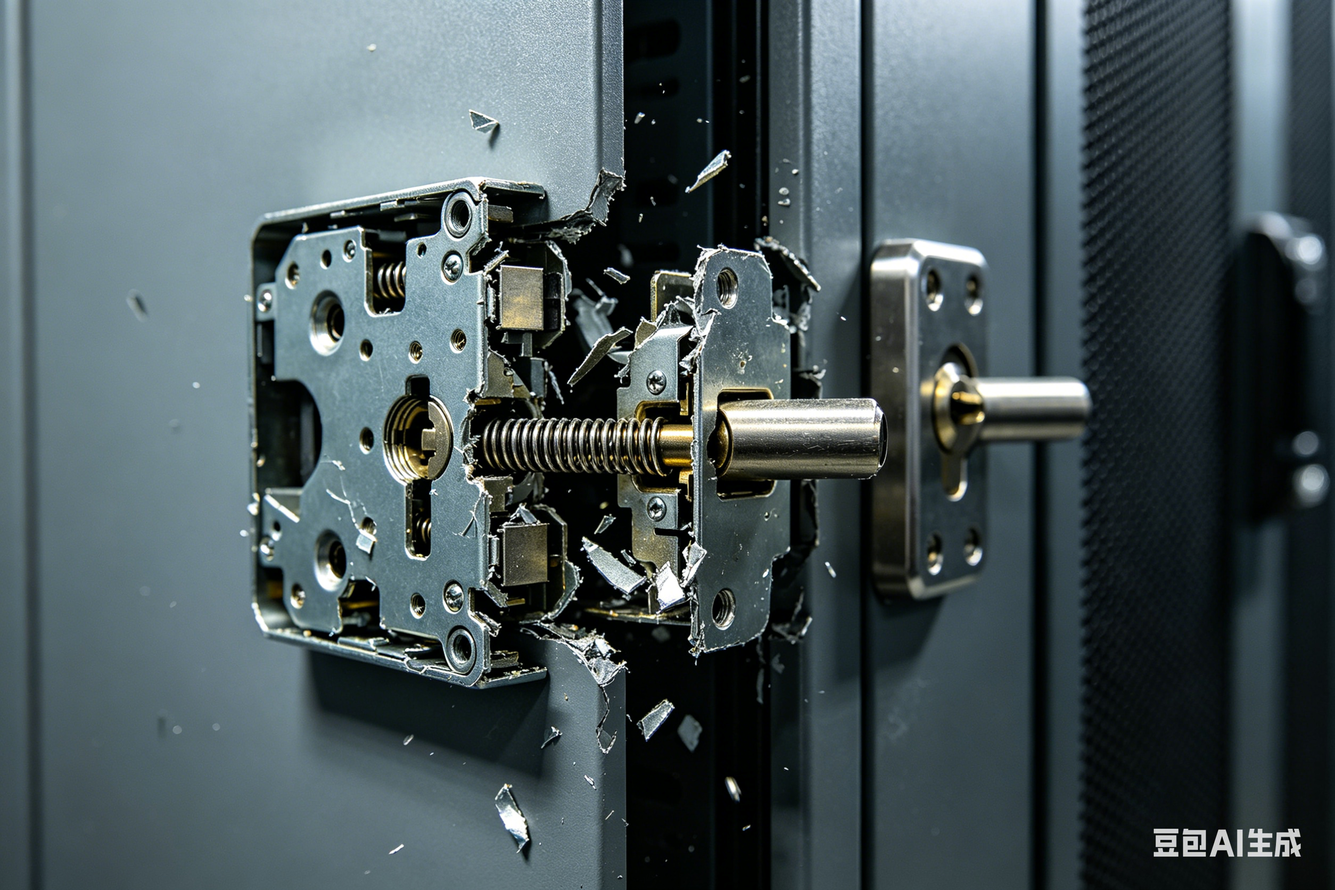BadLock: (482, 218, 714, 654)
